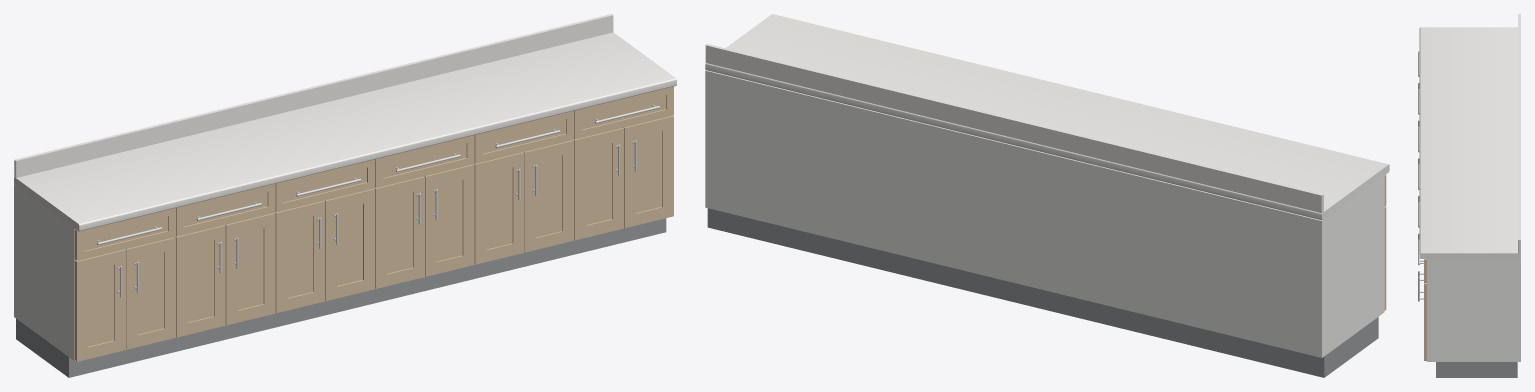
3 views of the same model, side by side, from view 1: azimuth 30°, elevation 25°; view 2: azimuth 150°, elevation 25°; view 3: azimuth 270°, elevation 25° (orthographic). The views are drawn at different scales.
Visible parts, largest first — view 1: Tủ bếp dưới Dài=3300; Sâu=580; view 2: Tủ bếp dưới Dài=3300; Sâu=580; view 3: Tủ bếp dưới Dài=3300; Sâu=580.
Boxes of the visible parts, x1,y1,x2,y2 form: Tủ bếp dưới Dài=3300; Sâu=580: (14, 14, 676, 377); Tủ bếp dưới Dài=3300; Sâu=580: (705, 14, 1389, 377); Tủ bếp dưới Dài=3300; Sâu=580: (1418, 14, 1520, 377).
Bounding box in the file's own units: 3.3 × 0.94 × 0.635.
